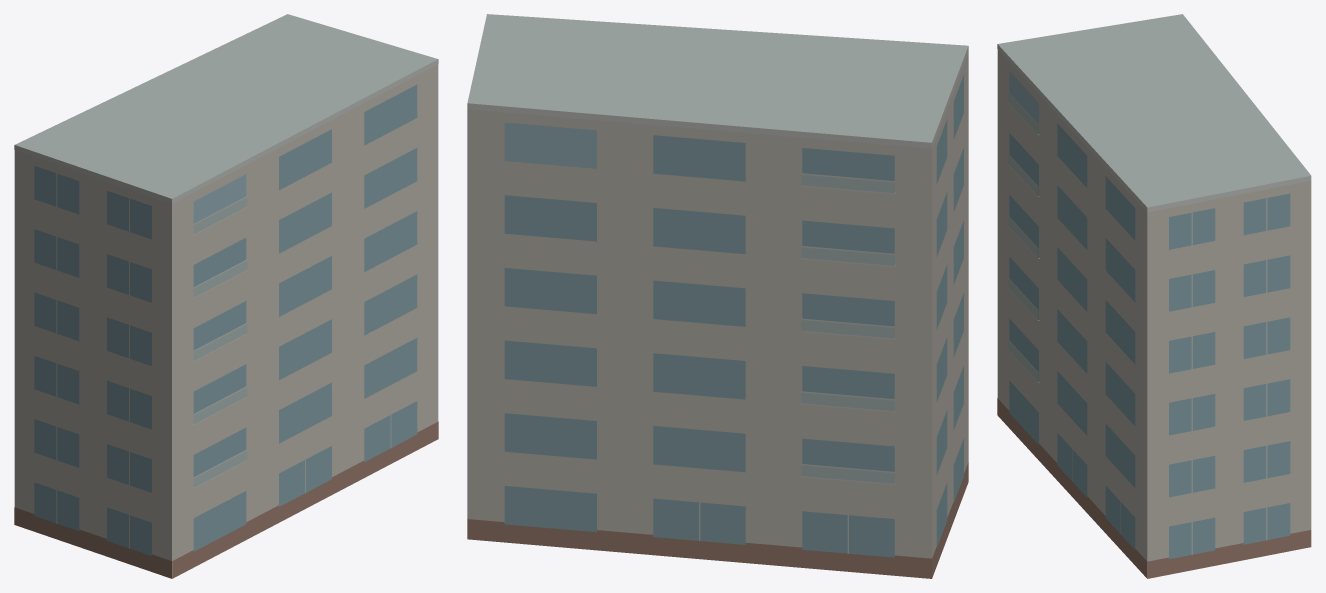
The model's file is survey-upis-32524080.glb.
3 views of the same model, side by side, from view 1: azimuth 30°, elevation 25°; view 2: azimuth 150°, elevation 25°; view 3: azimuth 270°, elevation 25° (orthographic). The views are drawn at different scales.
Parts seen in each view (by area): view 1: survey-upis-32524080.tmp; view 2: survey-upis-32524080.tmp; view 3: survey-upis-32524080.tmp.
Boxes of the visible parts, left/top/right/bottom form: survey-upis-32524080.tmp: left=14, top=14, right=438, bottom=578; survey-upis-32524080.tmp: left=467, top=14, right=968, bottom=578; survey-upis-32524080.tmp: left=997, top=14, right=1311, bottom=578.
Bounding box in the file's own units: 20.46 × 18.3 × 14.03.
